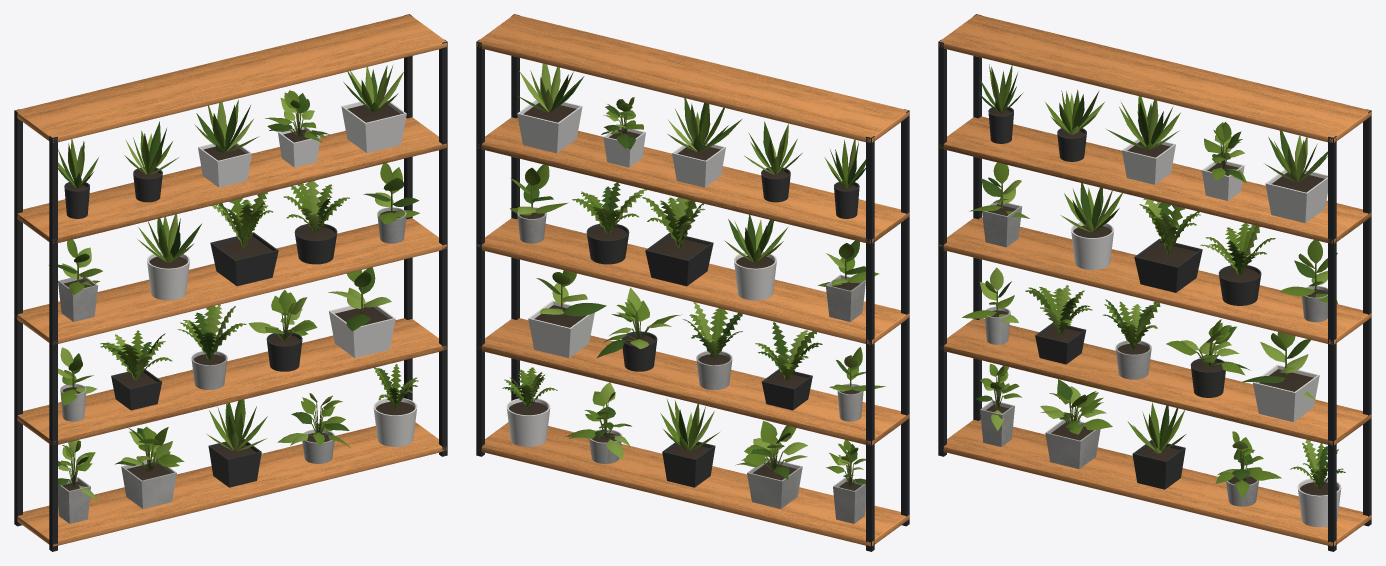
Rendered from greenery.shelf-with-planter.glb.
The picture shows the model from 3 angles, left to right: view 1: azimuth 30°, elevation 25°; view 2: azimuth 150°, elevation 25°; view 3: azimuth 330°, elevation 25°; orthographic projection.
Parts seen in each view (by area): view 1: greenery.shelf-with-planter.001; view 2: greenery.shelf-with-planter.001; view 3: greenery.shelf-with-planter.001.
Boxes of the visible parts, left/top/right/bottom form: greenery.shelf-with-planter.001: left=14, top=14, right=447, bottom=551; greenery.shelf-with-planter.001: left=476, top=14, right=909, bottom=551; greenery.shelf-with-planter.001: left=938, top=14, right=1371, bottom=551.
Bounding box in the file's own units: 1.8 × 1.8 × 0.3.
Materials: 10 (2 with a texture image).
